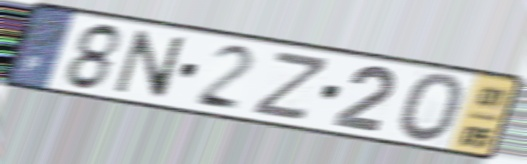2: (329, 63, 400, 137), (187, 44, 261, 112)
8: (64, 19, 126, 93)
N: (111, 27, 188, 102)
O: (395, 70, 467, 145)
Z: (247, 51, 334, 124)
